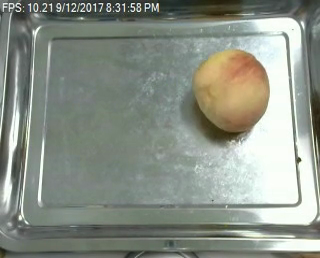Peach: (195, 47, 272, 134)
